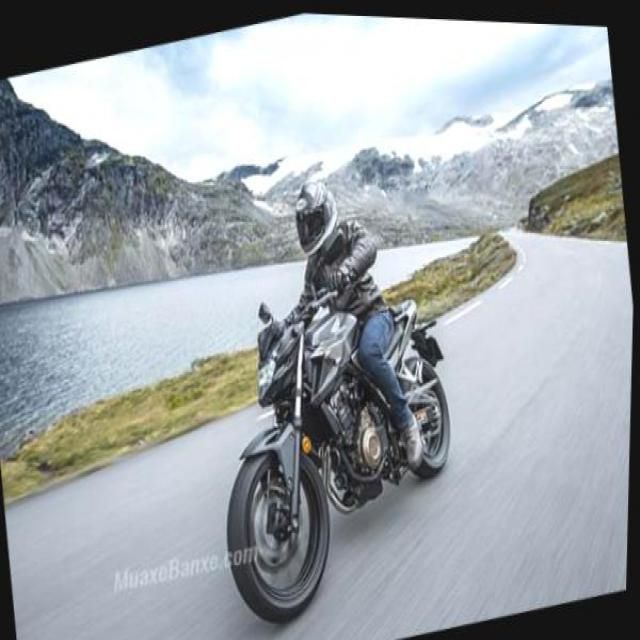CB500F: (199, 247, 476, 638)
